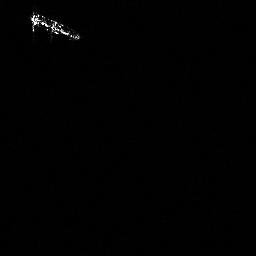ship: (28, 9, 82, 43)
